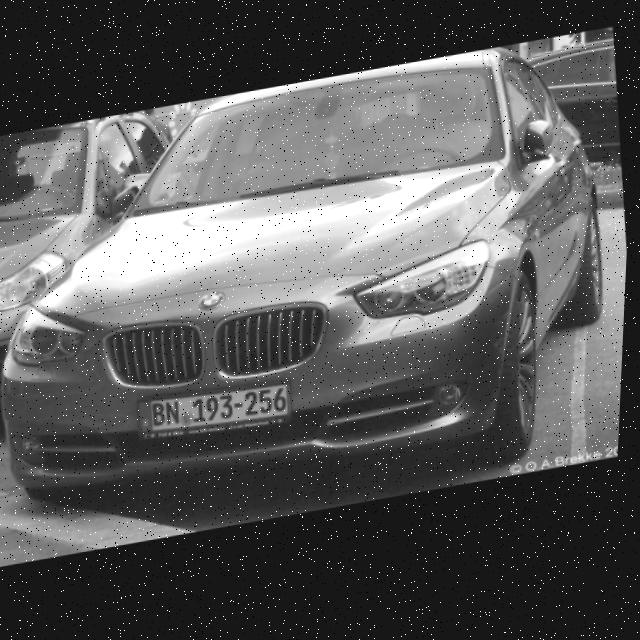license-plates: (139, 384, 290, 433)
